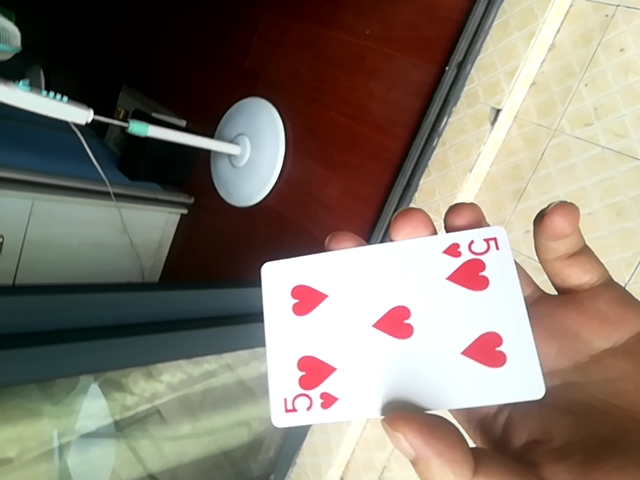hx 5: (253, 220, 540, 428)
